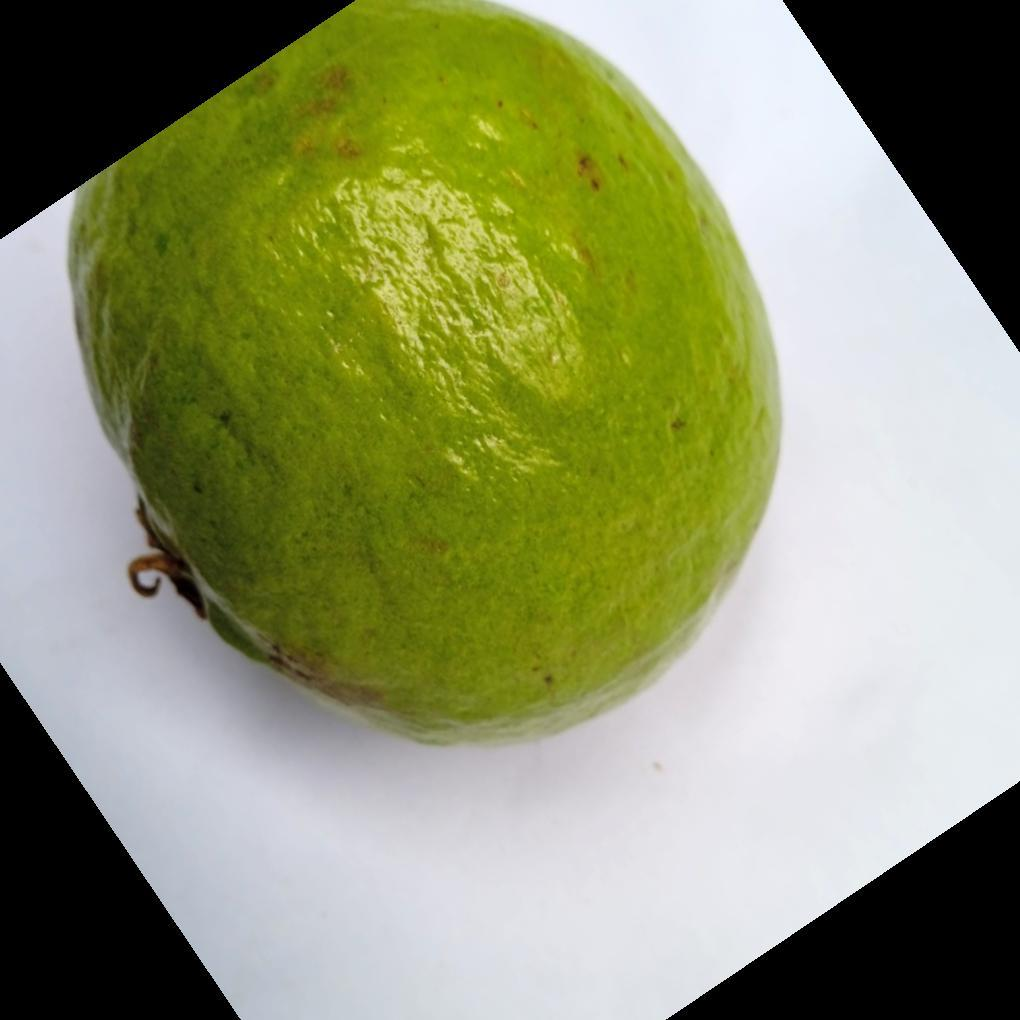FreshGuava: (63, 0, 783, 750)
